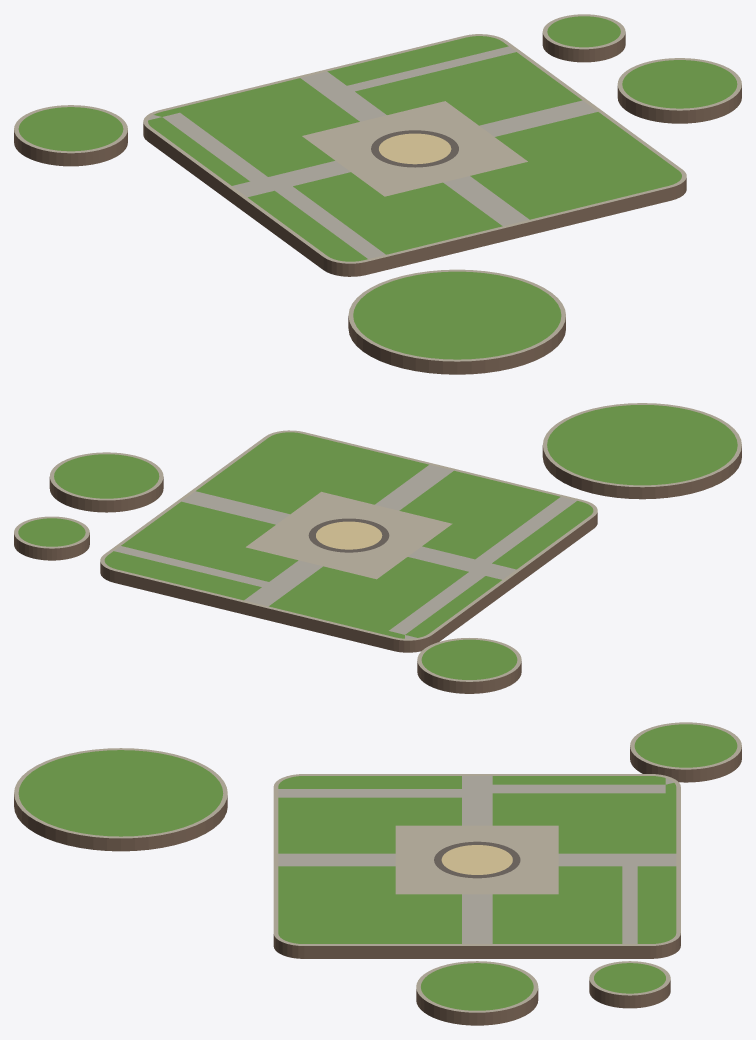
The model's file is island_ground.fbx.
3 views of the same model, one above another, from view 1: azimuth 30°, elevation 25°; view 2: azimuth 150°, elevation 25°; view 3: azimuth 270°, elevation 25° (orthographic). The views are drawn at different scales.
Visible parts, largest first — view 1: island_ground; view 2: island_ground; view 3: island_ground.
Boxes of the visible parts, left/top/right/bottom form: island_ground: left=14, top=14, right=741, bottom=374; island_ground: left=14, top=403, right=741, bottom=693; island_ground: left=14, top=722, right=741, bottom=1025.
Bounding box in the file's own units: 135 × 2.8 × 143.
